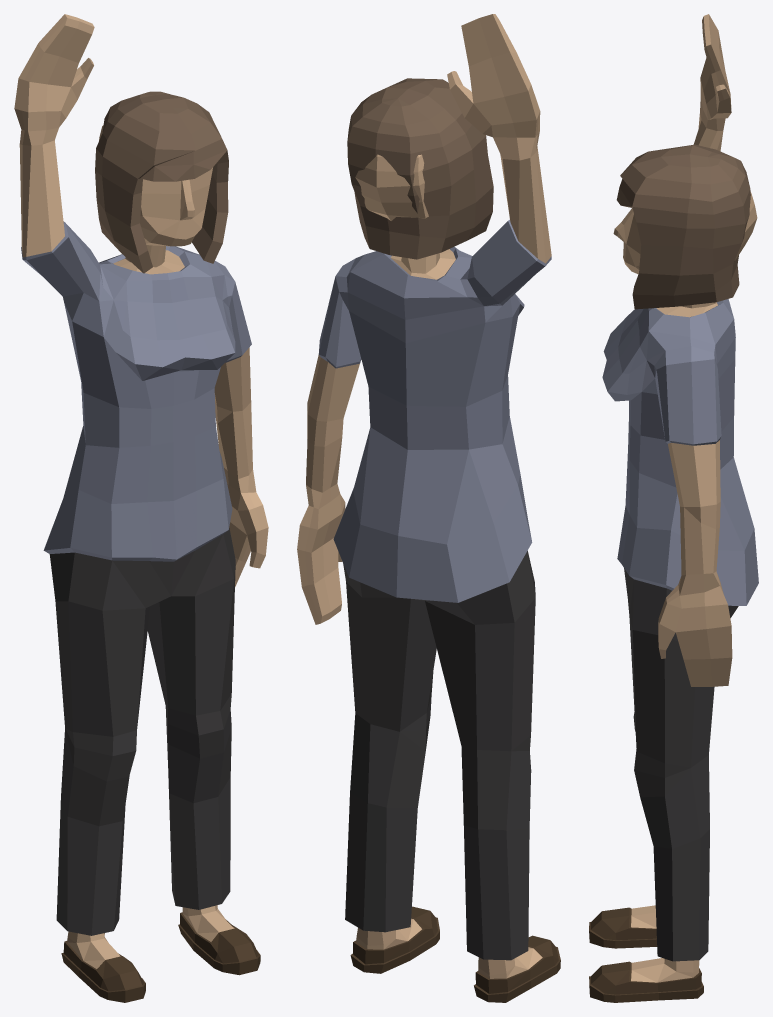
File: female_wave_hair1.glb
The picture shows the model from 3 angles, left to right: view 1: azimuth 30°, elevation 25°; view 2: azimuth 150°, elevation 25°; view 3: azimuth 270°, elevation 25°; orthographic projection. The views are drawn at different scales.
Parts seen in each view (by area): view 1: hair; view 2: hair; view 3: hair.
Part boxes in pixels (x1,y1,x2,y2): hair: (14,14,268,1002); hair: (297,14,560,1002); hair: (589,14,758,1002).
Size of the model in its own units: 0.4763 by 1.89 by 0.3156.
